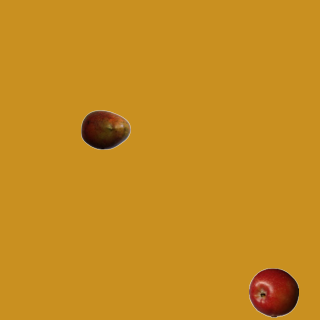Apple Braeburn: (248, 267, 298, 317)
Mango Red: (80, 104, 130, 154)
